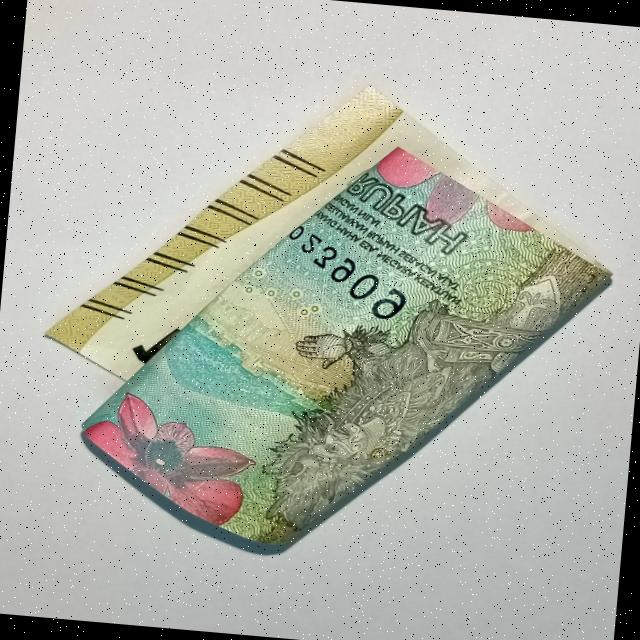1K: (15, 47, 634, 590)
